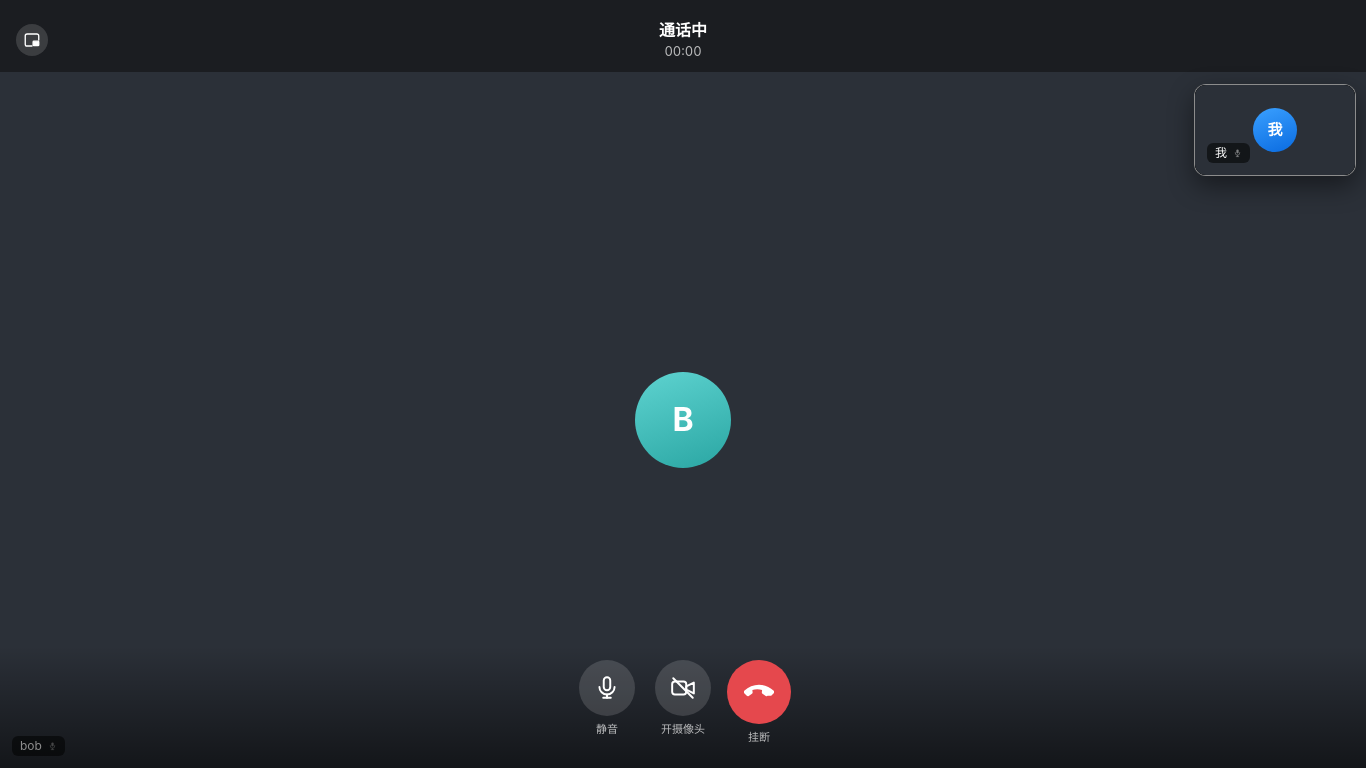
Test: 失败路径要收尾 › 开摄像头失败：按钮弹回去、标成无权限，而不是假装开着
接通时摄像头是关着的（来电页上关掉了），点开才会去发布。
Click the button with test id "toggle-camera" at (683,698), box [651,660,715,736]
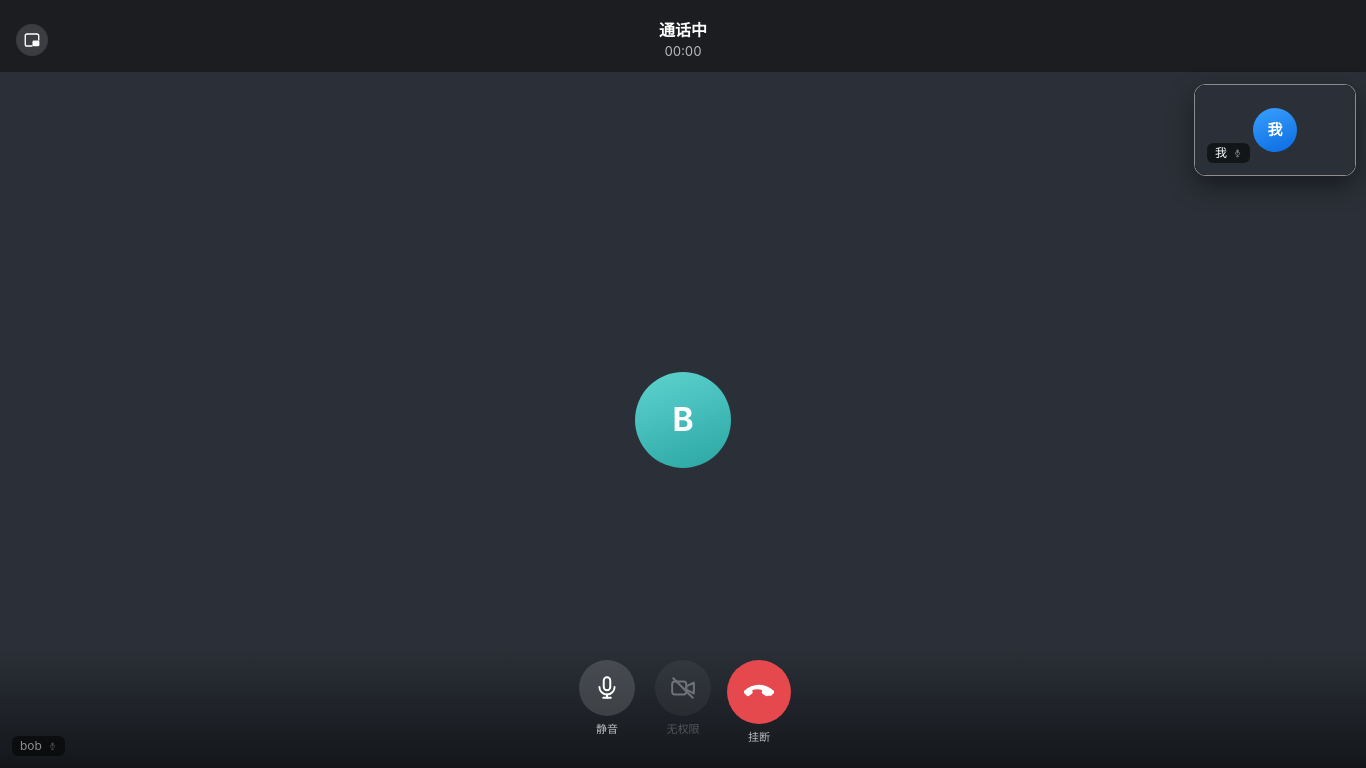
Result: the button with test id "toggle-camera" reads "无权限" at [651,660,715,736]
